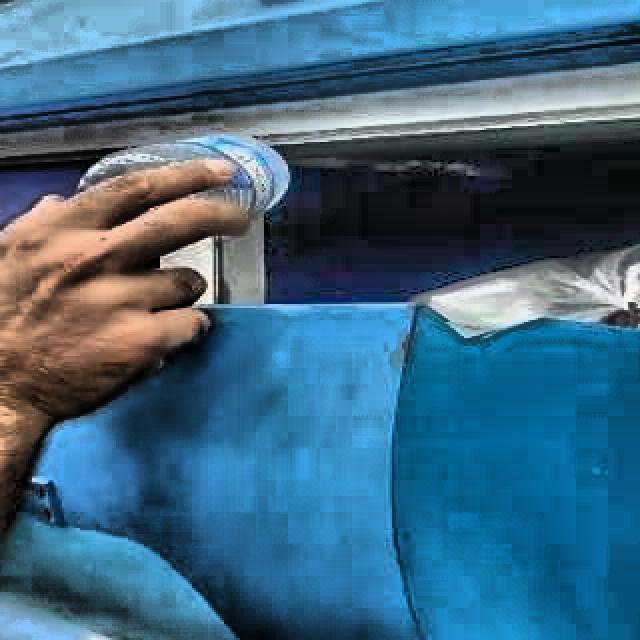plastic: (75, 137, 291, 220)
